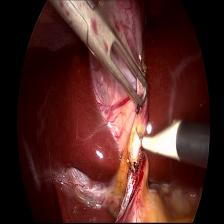Grasper: (53, 1, 149, 110)
Hook: (133, 118, 185, 164)
